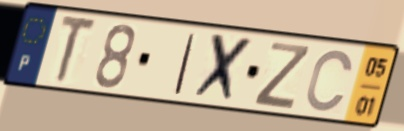8: (93, 21, 136, 90)
C: (303, 48, 356, 115)
I: (171, 30, 199, 97)
T: (53, 13, 100, 87)
X: (188, 30, 257, 107)
Z: (250, 39, 314, 112)
